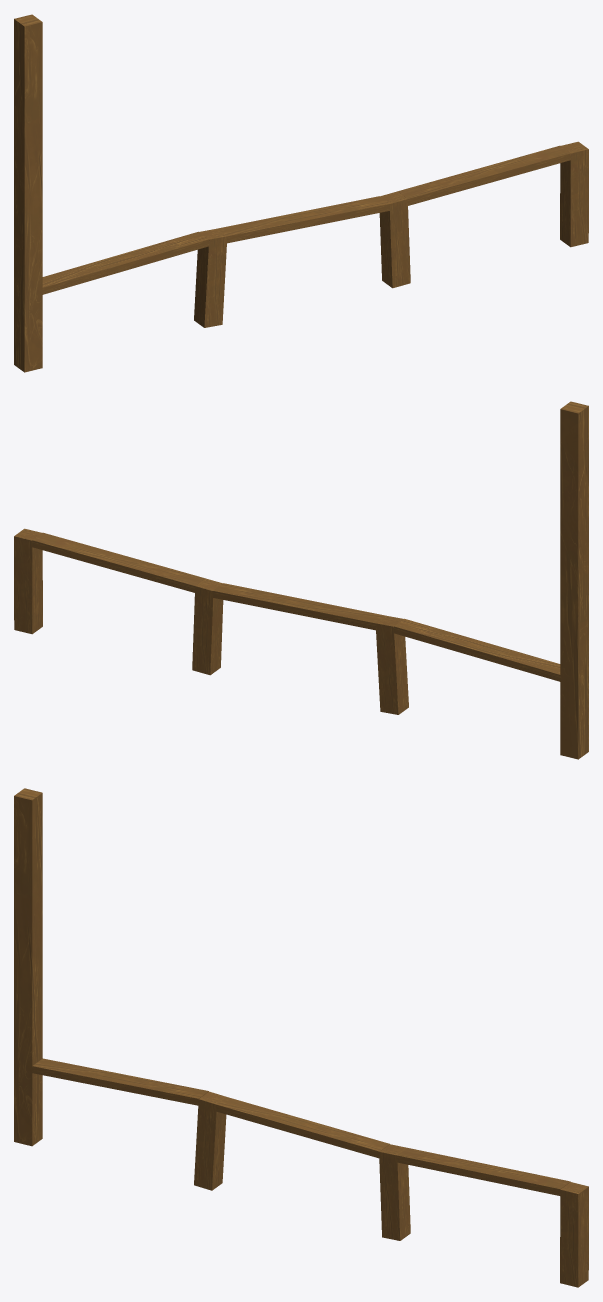
Rendered from valla 2.fbx.
3 renders of one model, top to bottom at view 1: azimuth 30°, elevation 25°; view 2: azimuth 150°, elevation 25°; view 3: azimuth 330°, elevation 25°, orthographic.
Parts seen in each view (by area): view 1: Cube.019, Cube.018, Cube.022, Cube.020, Cube.023, Cube.017, Cube.021; view 2: Cube.019, Cube.018, Cube.022, Cube.020, Cube.023, Cube.017, Cube.021; view 3: Cube.019, Cube.020, Cube.023, Cube.018, Cube.022, Cube.017, Cube.021.
Part boxes in pixels (bbox=[...]): Cube.019: bbox=[14, 14, 42, 372]; Cube.018: bbox=[42, 231, 208, 294]; Cube.022: bbox=[397, 145, 570, 205]; Cube.020: bbox=[217, 196, 389, 243]; Cube.023: bbox=[560, 141, 588, 247]; Cube.017: bbox=[194, 228, 226, 327]; Cube.021: bbox=[379, 191, 410, 288]; Cube.019: bbox=[560, 401, 588, 759]; Cube.018: bbox=[394, 618, 560, 681]; Cube.022: bbox=[32, 532, 205, 592]; Cube.020: bbox=[213, 583, 385, 630]; Cube.023: bbox=[14, 528, 42, 634]; Cube.017: bbox=[375, 615, 408, 714]; Cube.021: bbox=[192, 578, 223, 675]; Cube.019: bbox=[14, 788, 42, 1146]; Cube.020: bbox=[216, 1097, 389, 1158]; Cube.023: bbox=[560, 1182, 588, 1287]; Cube.018: bbox=[32, 1058, 208, 1105]; Cube.022: bbox=[397, 1148, 570, 1195]; Cube.017: bbox=[194, 1091, 226, 1190]; Cube.021: bbox=[379, 1144, 410, 1240].
Size of the model in its own units: 810 by 486 by 26.15.
Materials: 1 (1 with a texture image).
